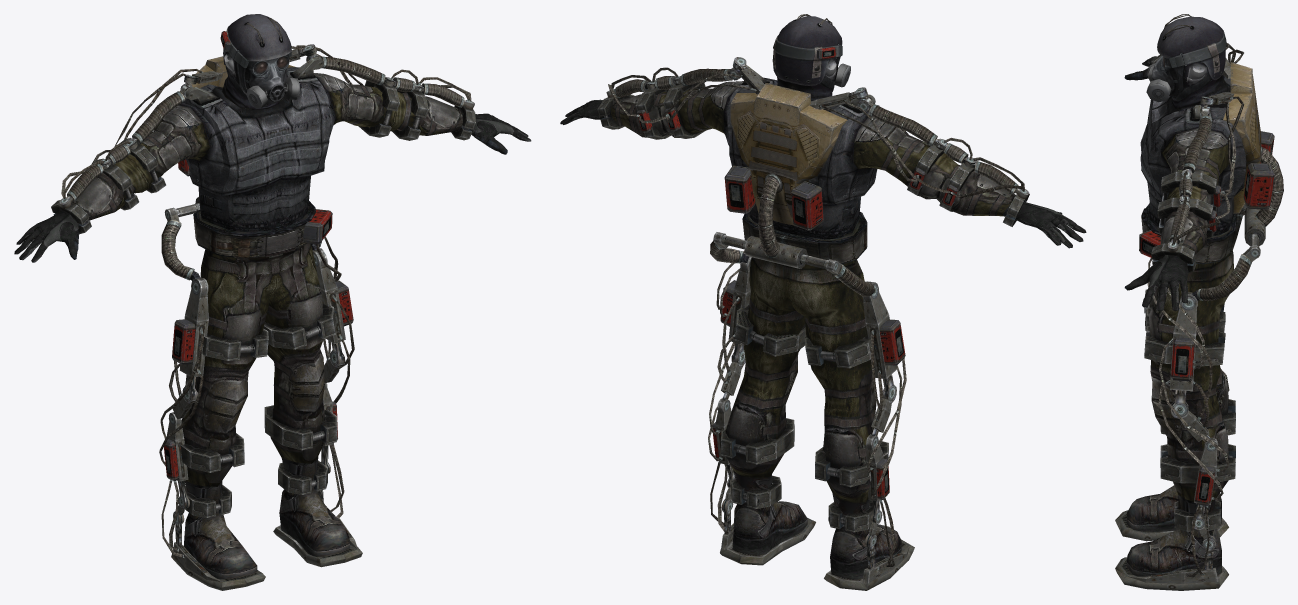
File: stalker.fbx
3 views of the same model, side by side, from view 1: azimuth 30°, elevation 25°; view 2: azimuth 150°, elevation 25°; view 3: azimuth 270°, elevation 25° (orthographic).
Parts seen in each view (by area): view 1: Mesh_00000.01; view 2: Mesh_00000.01; view 3: Mesh_00000.01.
Part boxes in pixels (<box>): Mesh_00000.01: <box>14,14,531,590</box>; Mesh_00000.01: <box>560,14,1086,590</box>; Mesh_00000.01: <box>1115,14,1283,590</box>.
Size of the model in its own units: 4.83 by 4.85 by 1.39.
